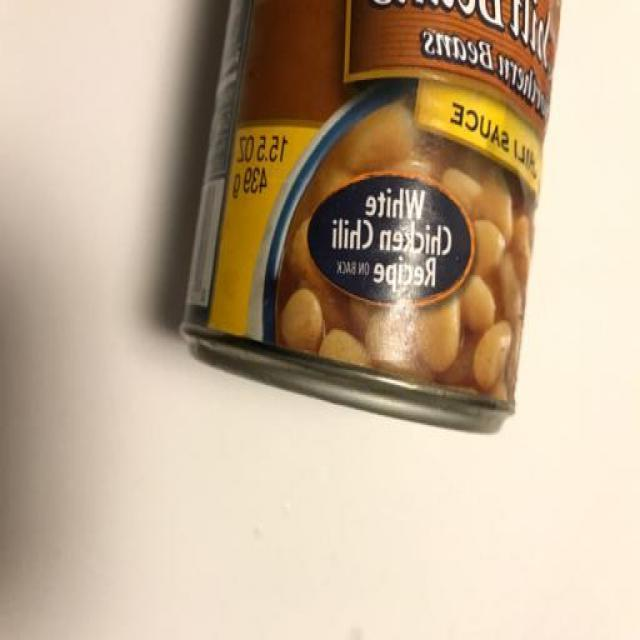metal: (175, 0, 566, 434)
